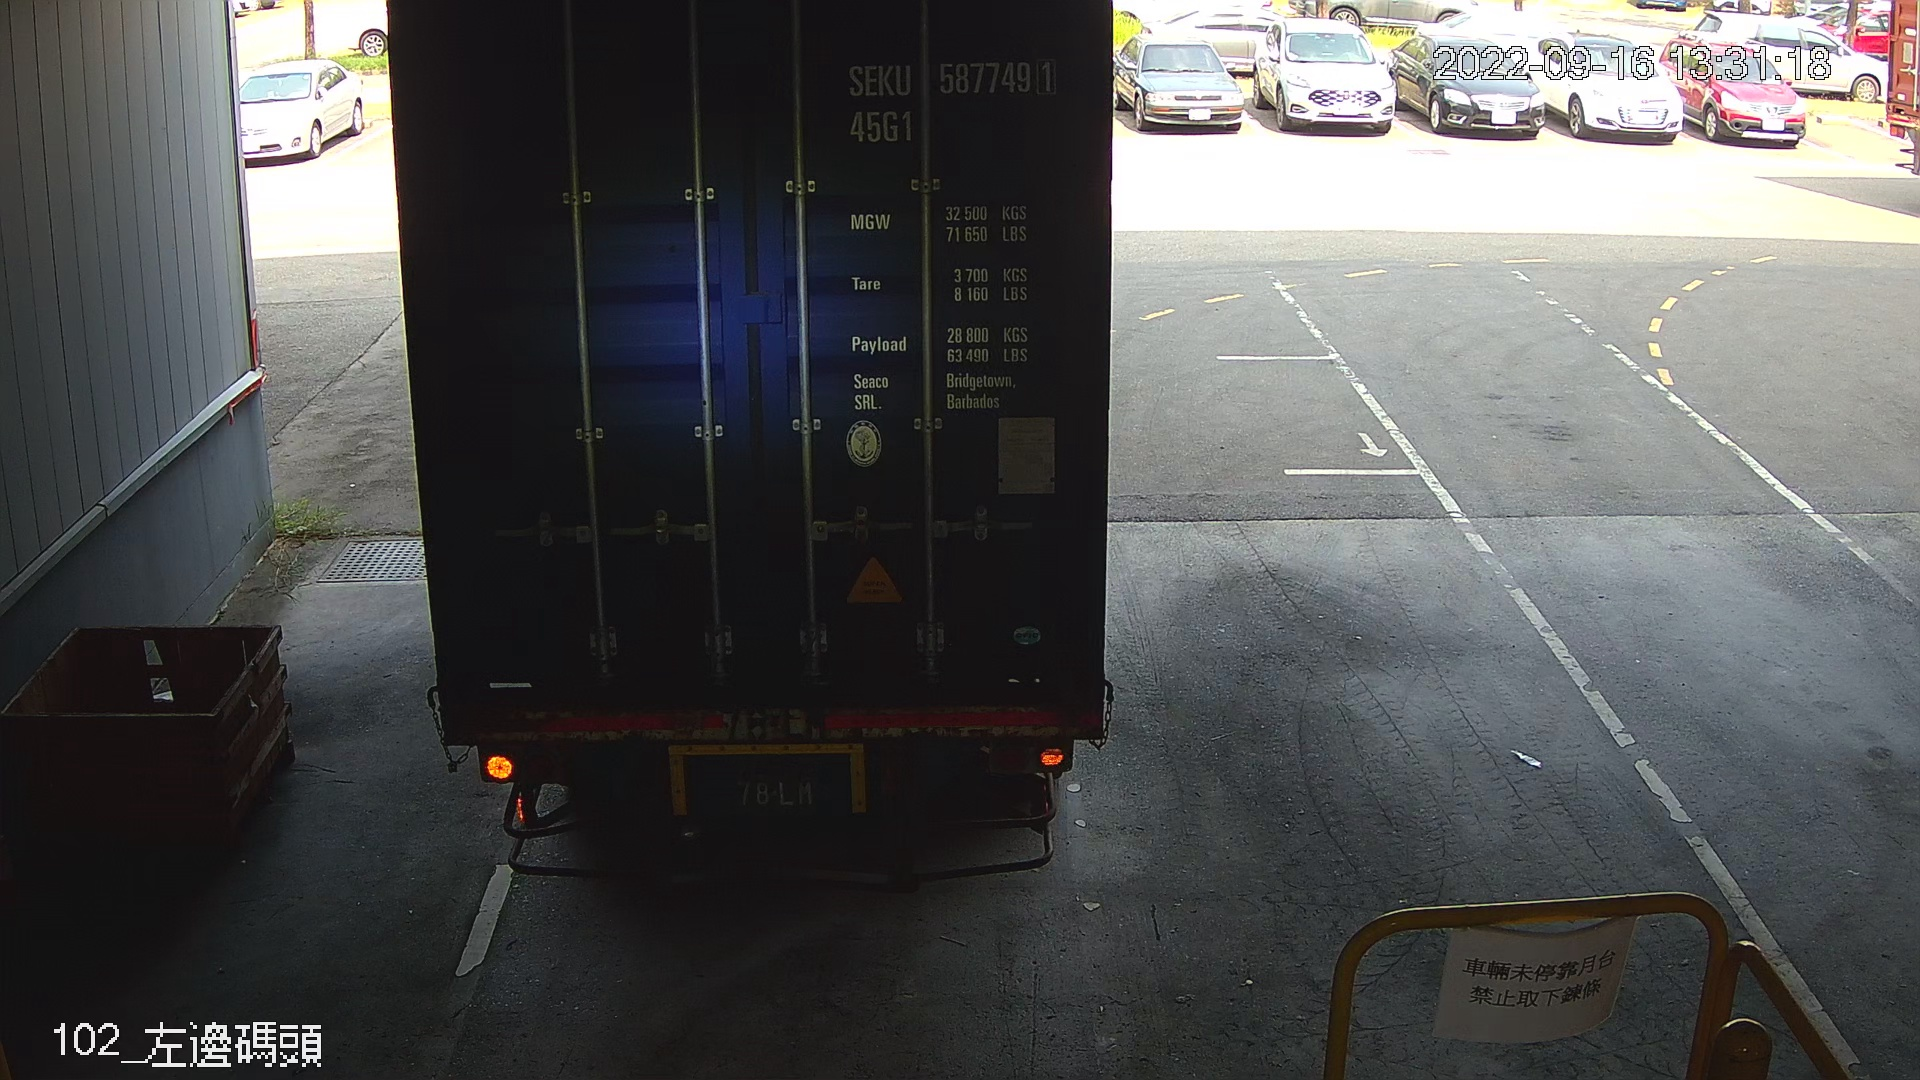container: (837, 51, 1065, 157)
